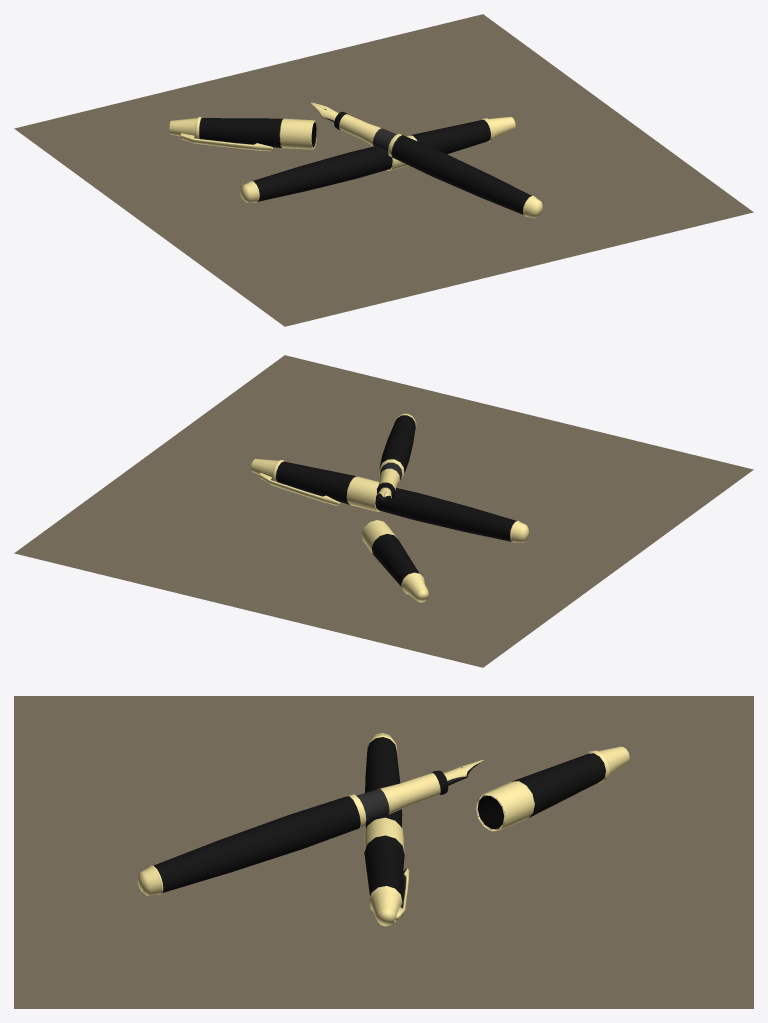
Rendered from fountain-pens.glb.
3 views of the same model, one above another, from view 1: azimuth 30°, elevation 25°; view 2: azimuth 150°, elevation 25°; view 3: azimuth 270°, elevation 25° (orthographic). The views are drawn at different scales.
Visible parts, largest first — view 1: ground, pen2_nib_low, pen2_cap_low, body_low, cap_low; view 2: ground, body_low, cap_low, pen2_cap_low, pen2_nib_low; view 3: ground, pen2_nib_low, pen2_cap_low, cap_low, body_low.
Part boxes in pixels (x1,y1,x2,y2): ground: (14,14,753,326); pen2_nib_low: (311,102,542,218); pen2_cap_low: (169,116,316,151); body_low: (240,146,392,202); cap_low: (387,117,515,170); ground: (14,355,753,667); body_low: (375,488,529,542); cap_low: (251,459,380,511); pen2_cap_low: (361,520,428,602); pen2_nib_low: (376,413,416,500); ground: (14,696,753,1008); pen2_nib_low: (137,760,483,895); pen2_cap_low: (476,746,629,831); cap_low: (364,817,404,926); body_low: (365,733,402,828).
Size of the model in its own units: 35.87 by 3.7 by 35.87.
2 materials, 1 textured.
